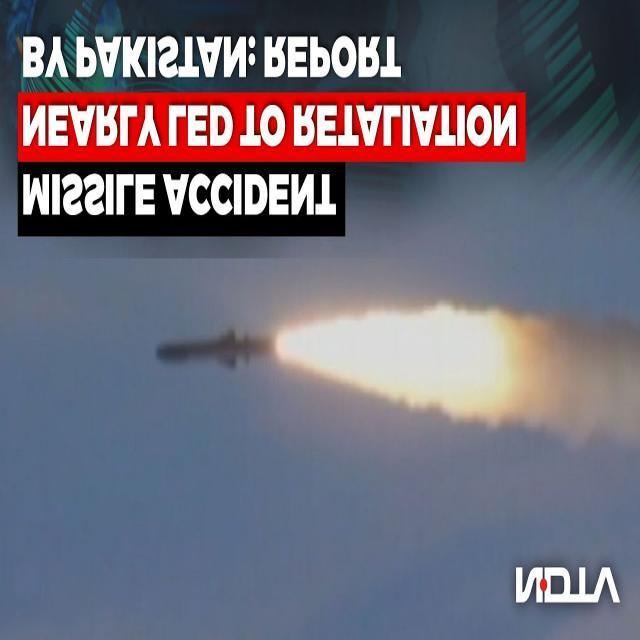missile: (156, 329, 283, 377)
